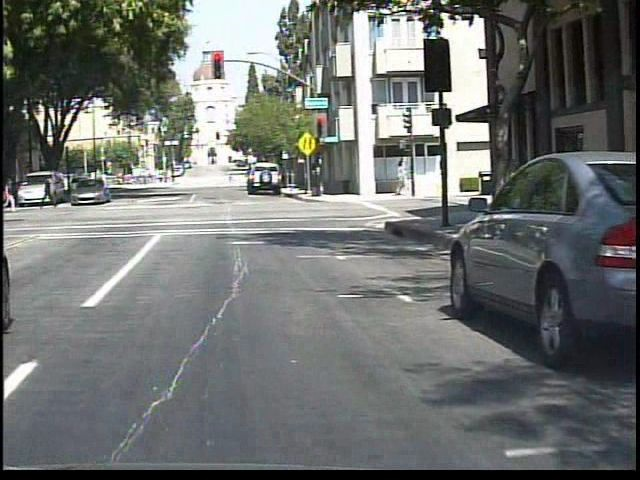person: (39, 171, 55, 212), (222, 171, 236, 188), (5, 175, 10, 214)
